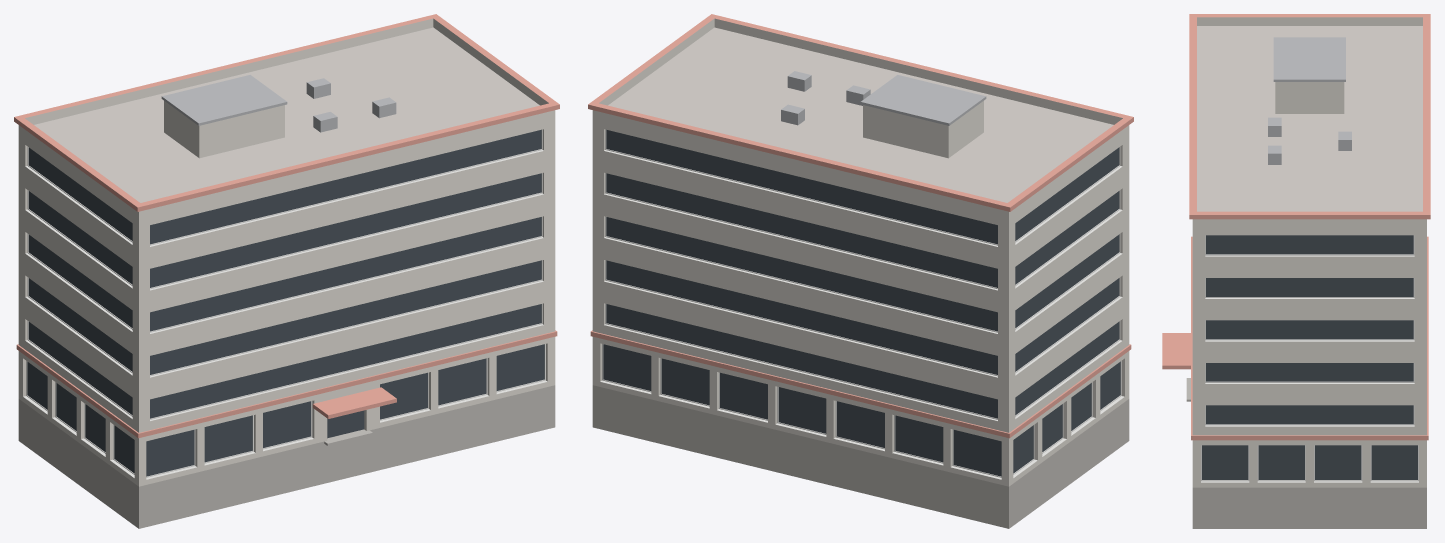
The model's file is office_6_l.glb.
The picture shows the model from 3 angles, left to right: view 1: azimuth 30°, elevation 25°; view 2: azimuth 150°, elevation 25°; view 3: azimuth 270°, elevation 25°; orthographic projection. The views are drawn at different scales.
Parts seen in each view (by area): view 1: office_6_l; view 2: office_6_l; view 3: office_6_l.
Part boxes in pixels (x1,y1,x2,y2): office_6_l: (14, 14, 559, 528); office_6_l: (588, 14, 1133, 528); office_6_l: (1162, 14, 1430, 528).
Size of the model in its own units: 34.5 by 27.35 by 19.45.
